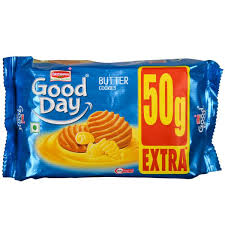gooday-medium: (6, 60, 211, 176)
